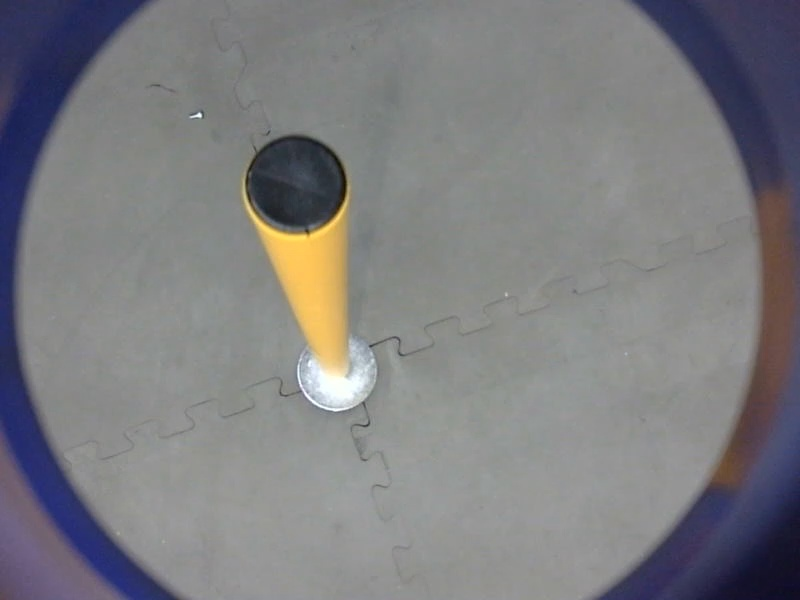tip: (235, 128, 357, 243)
